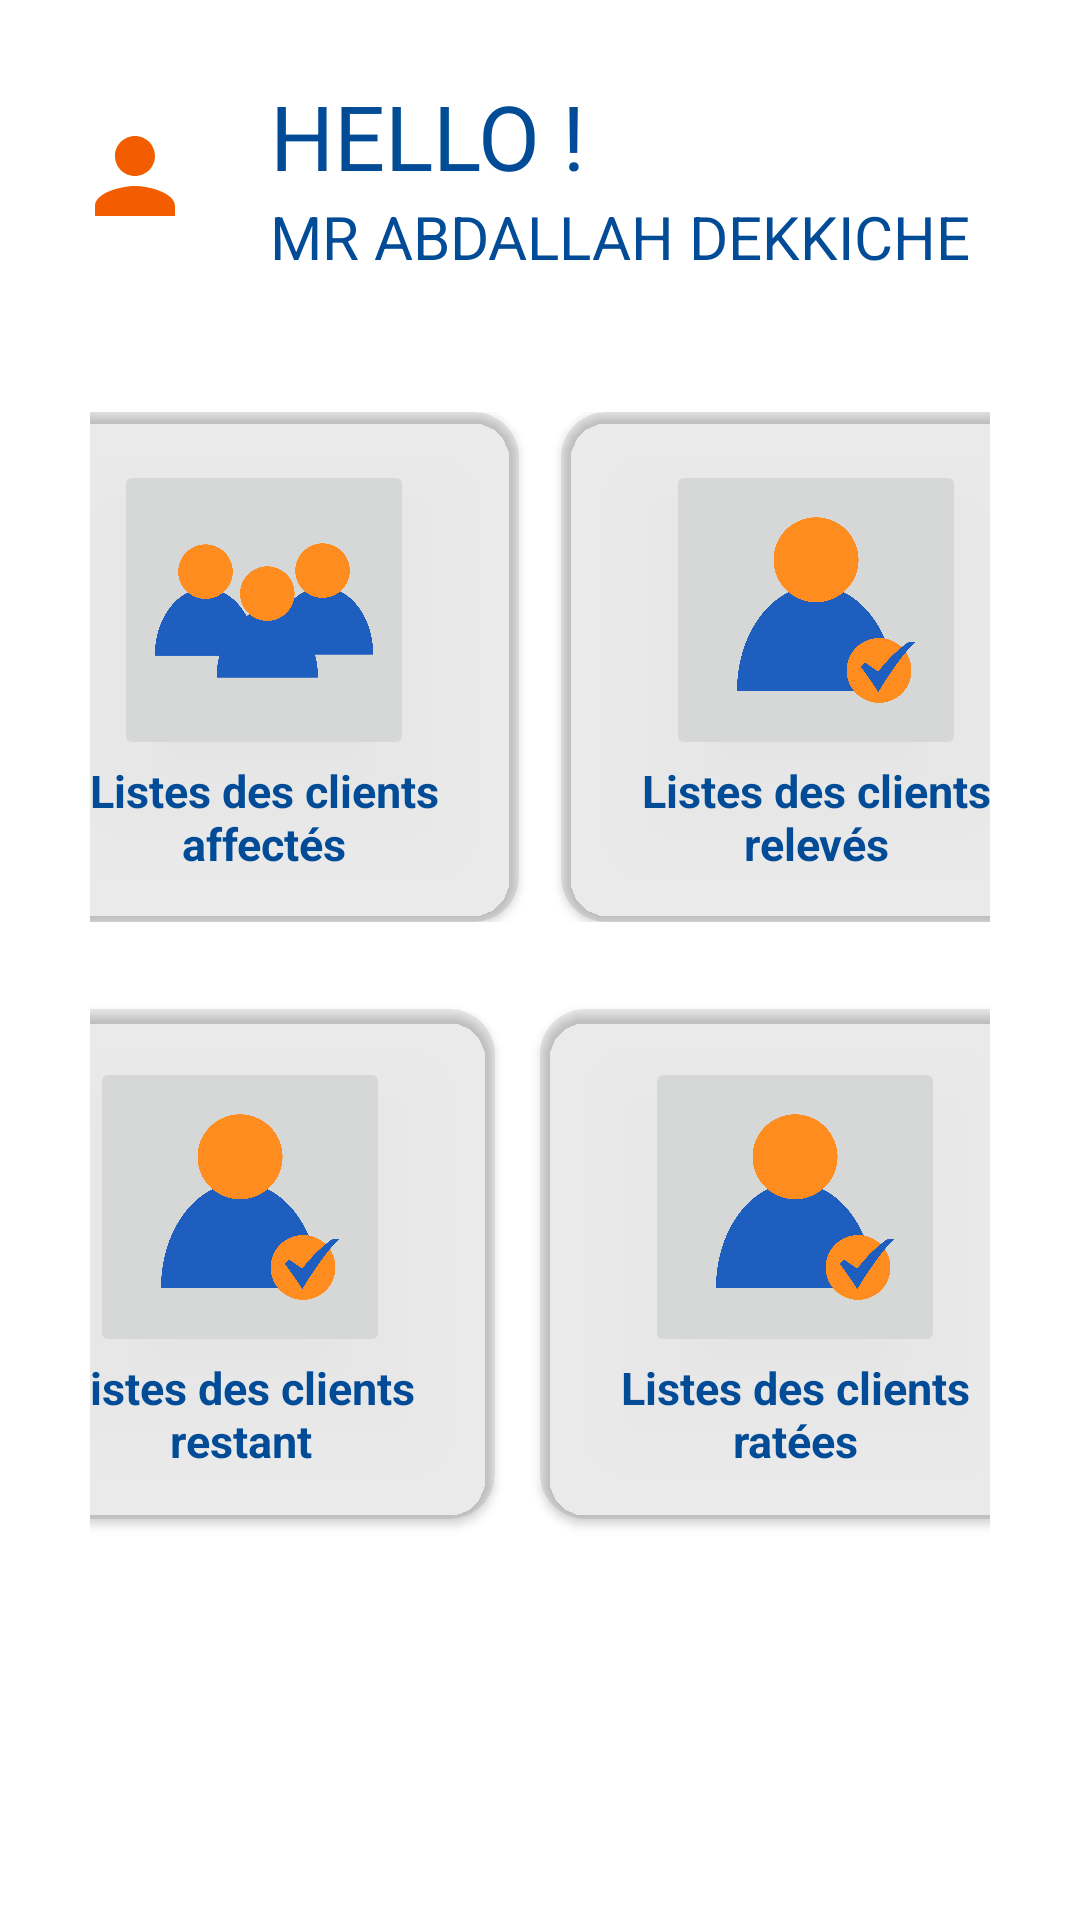

Screen size 1080 × 1920. Icon name, then its box in pixels as (x1, y1, x2, y2):
person: (95, 136, 175, 216)
